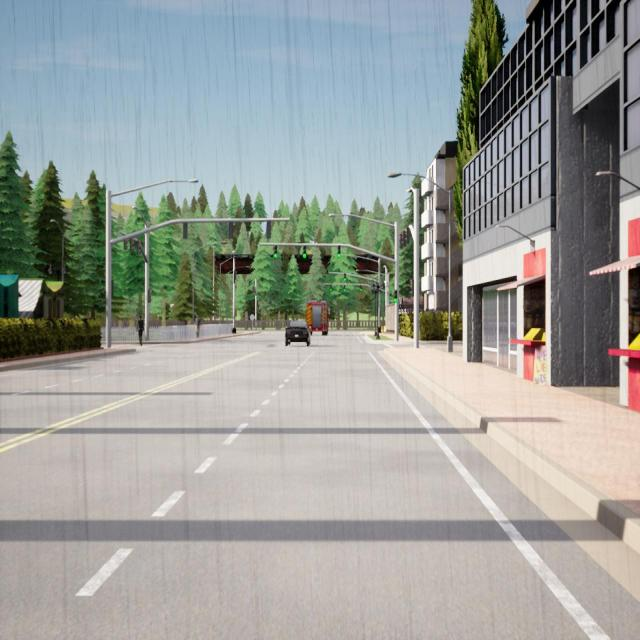Pedestrian: (136, 316, 144, 346), (196, 316, 200, 338)
Traffic_Signs: (250, 315, 254, 320)
Vehicle: (306, 300, 328, 336), (286, 320, 310, 346)
traffic_light: (183, 223, 188, 238), (267, 221, 271, 239), (410, 280, 414, 297), (229, 221, 233, 238), (406, 226, 409, 244), (394, 290, 398, 303), (130, 238, 134, 251), (124, 235, 127, 250), (400, 234, 403, 248), (148, 290, 151, 303), (274, 245, 277, 258), (137, 242, 140, 254), (404, 231, 406, 246), (304, 246, 306, 258), (338, 246, 340, 258), (234, 270, 236, 280), (344, 273, 346, 281), (330, 285, 332, 292), (360, 285, 362, 292), (344, 286, 346, 292), (254, 287, 256, 293)
